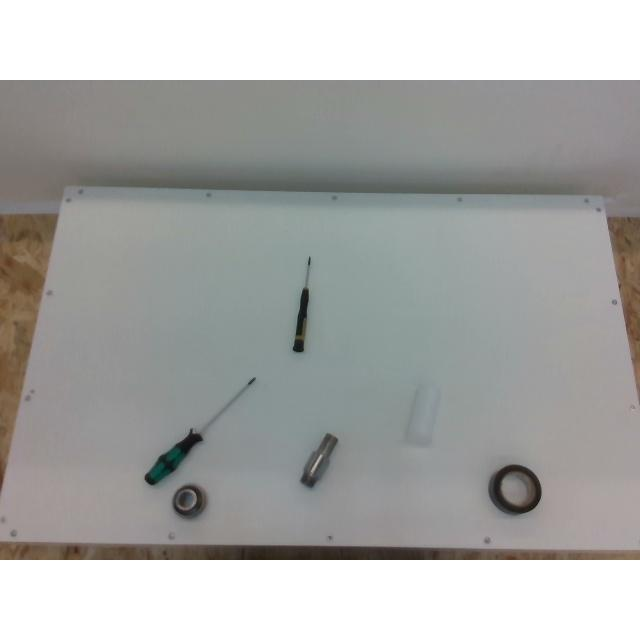Axis2: (300, 433, 336, 487)
Bearing2: (172, 484, 206, 516)
Screwdriver: (144, 376, 256, 484)
Spacer: (404, 382, 440, 444)
